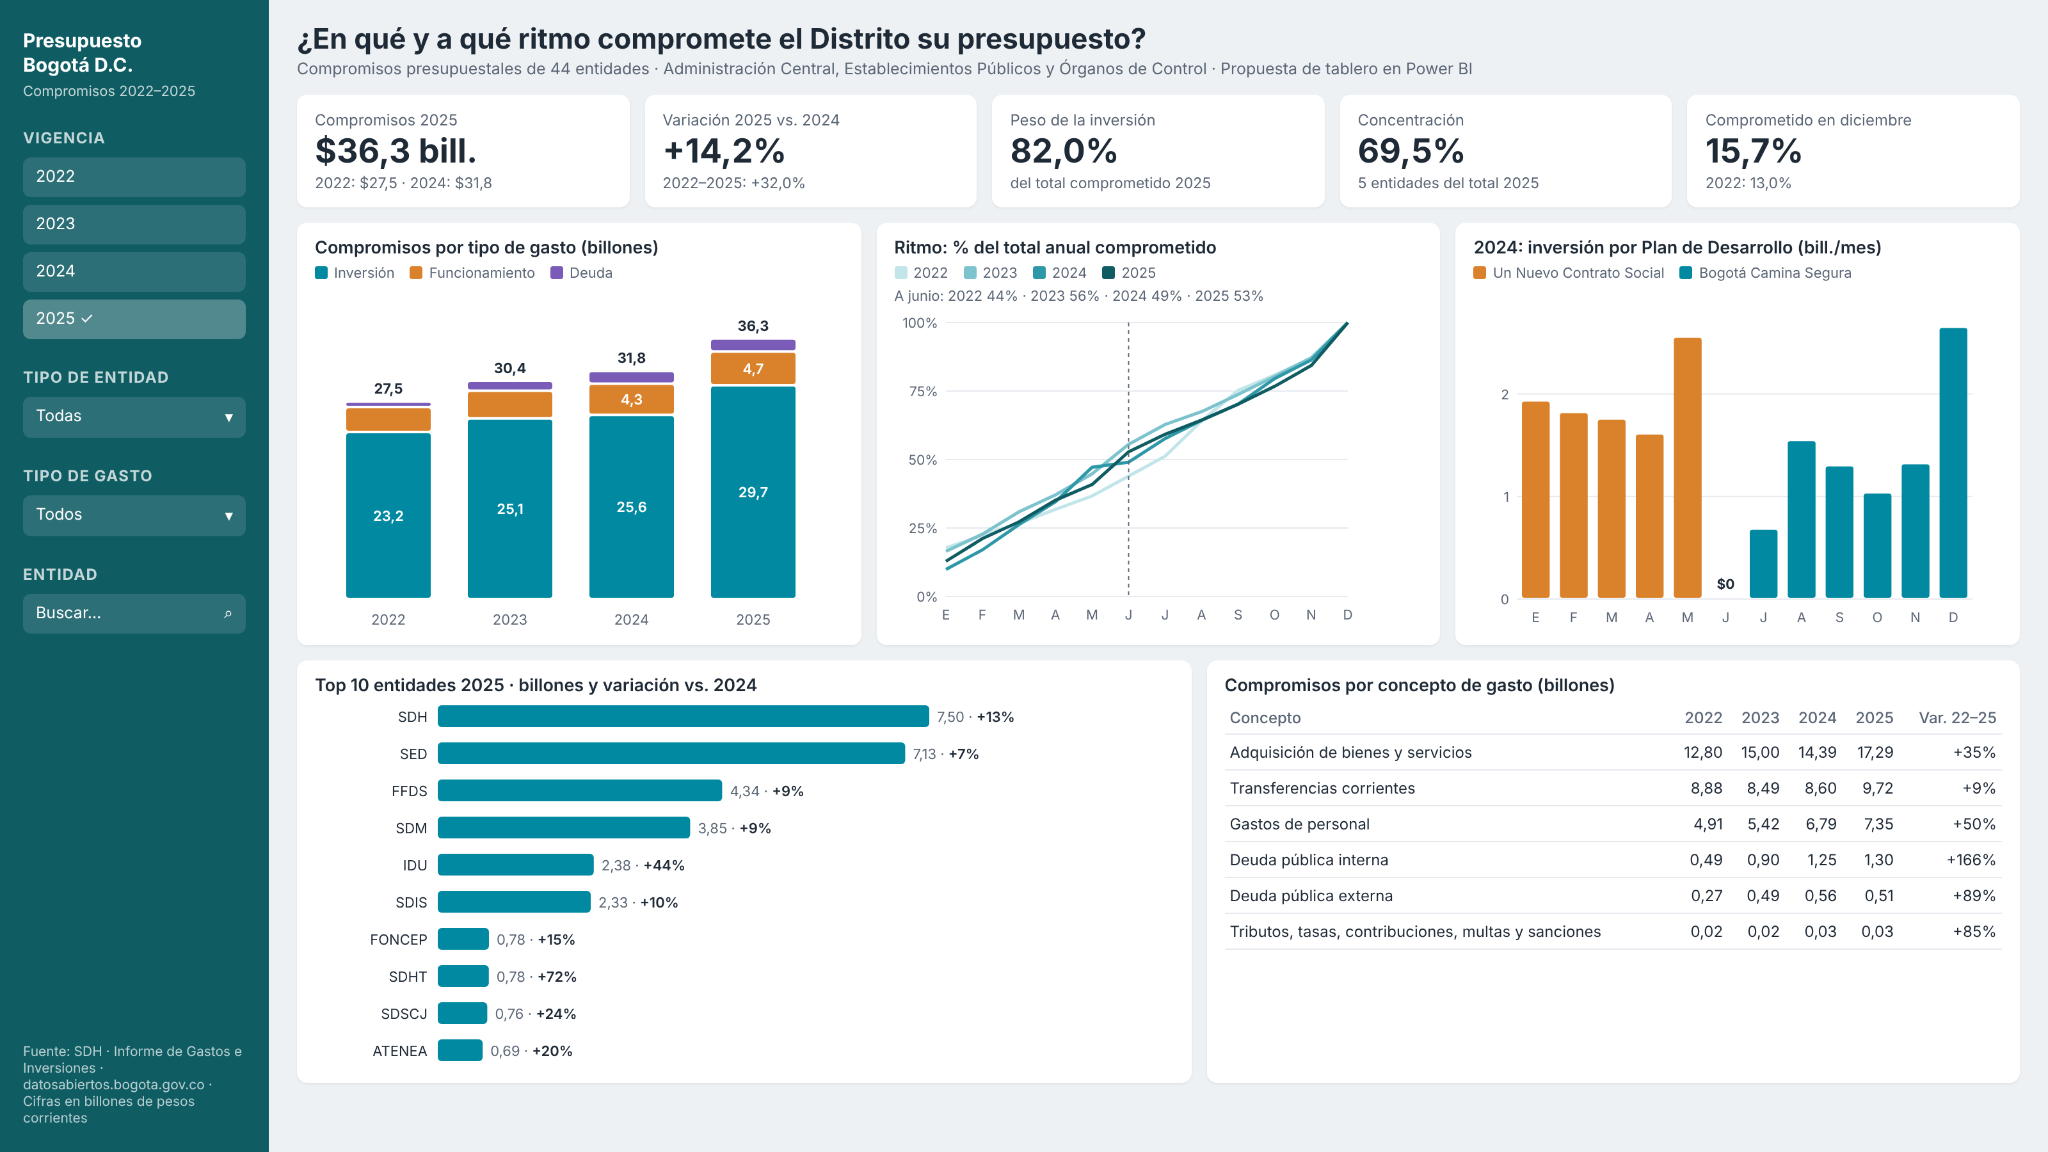

The dashboard page shown, as its layout file describes it:
{"tool":"powerbi","page":{"name":"Página 1","canvas":[1920,1080],"ordinal":0},"visuals":[{"type":"slicer","title":"VIGENCIA","fields":{"Values":["Calendario.vigencia"]},"box":[18.3,123.3,280.5,369.9],"z":0},{"type":"slicer","fields":{"Values":["Entidad.tipo_entidad"]},"box":[18.3,608.3,281.2,102.1],"z":1000},{"type":"slicer","fields":{"Values":["Rubro.tipo_gasto"]},"box":[18.3,515,281.2,75.2],"z":2000},{"type":"slicer","fields":{"Values":["Entidad.entidad"]},"box":[20,736.7,280.5,97.7],"z":3000},{"type":"cardVisual","fields":{"Data":["_Medidas.Compromisos (billones)"]},"box":[386.7,105,290.9,124.7],"z":4000},{"type":"cardVisual","fields":{"Data":["_Medidas.Variación anual %"]},"box":[720,105,283.3,125],"z":5000},{"type":"cardVisual","fields":{"Data":["_Medidas.% Inversión"]},"box":[1043.3,105,260,125],"z":6000},{"type":"cardVisual","fields":{"Data":["_Medidas.Concentración top 5"]},"box":[1360,106.7,238.3,125],"z":7000},{"type":"cardVisual","fields":{"Data":["_Medidas.% Comprometido en diciembre"]},"box":[1650,105,236.7,125],"z":8000},{"type":"columnChart","title":"Compromisos por tipo gasto (billones)","fields":{"Category":["Calendario.vigencia"],"Series":["Rubro.tipo_gasto"],"Y":["_Medidas.Compromisos (billones)"]},"box":[386.7,238.3,431.7,381.7],"z":9000},{"type":"barChart","fields":{"Category":["Entidad.sigla"],"Y":["_Medidas.Compromisos (billones)"]},"box":[386,642,669.6,399.1],"z":10000},{"type":"lineChart","title":"Ritmo: % del total anual comprometido","fields":{"Category":["Calendario.mes"],"Series":["Calendario.vigencia"],"Y":["_Medidas.% Avance del año"]},"box":[840,238.3,520.2,382.1],"z":11000},{"type":"pivotTable","title":"Compromisos por concepto de Gasto (Billones)","fields":{"Columns":["Calendario.vigencia"],"Rows":["Rubro.concepto_gasto"],"Values":["_Medidas.Compromisos (billones)"]},"box":[1121.7,646.7,695,393.3],"z":12000},{"type":"columnChart","title":"2024: Inversión por Plan de Desarrollo (Bill/mes)","fields":{"Category":["Calendario.mes"],"Series":["Programa.plan_desarrollo"],"Y":["_Medidas.Compromisos (billones)"]},"box":[1378,238,520.2,384],"z":13000},{"type":"textbox","box":[395,1.7,1175,76.7],"z":14000}]}

Visuals, with their boxes in screenshot pixels (x1, y1, x2, y2), scaled from the page's 1920x1080 canvas onto the 2048x1152 screenshot:
"VIGENCIA" slicer: locate(20, 132, 319, 526)
slicer - Entidad.tipo_entidad: locate(20, 649, 319, 758)
slicer - Rubro.tipo_gasto: locate(20, 549, 319, 630)
slicer - Entidad.entidad: locate(21, 786, 321, 890)
cardVisual - _Medidas.Compromisos (billones): locate(412, 112, 723, 245)
cardVisual - _Medidas.Variación anual %: locate(768, 112, 1070, 245)
cardVisual - _Medidas.% Inversión: locate(1113, 112, 1390, 245)
cardVisual - _Medidas.Concentración top 5: locate(1451, 114, 1705, 247)
cardVisual - _Medidas.% Comprometido en diciembre: locate(1760, 112, 2012, 245)
"Compromisos por tipo gasto (billones)" columnChart: locate(412, 254, 873, 661)
barChart - Entidad.sigla x _Medidas.Compromisos (billones): locate(412, 685, 1126, 1111)
"Ritmo: % del total anual comprometido" lineChart: locate(896, 254, 1451, 662)
"Compromisos por concepto de Gasto (Billones)" pivotTable: locate(1196, 690, 1938, 1109)
"2024: Inversión por Plan de Desarrollo (Bill/mes)" columnChart: locate(1470, 254, 2025, 663)
textbox: locate(421, 2, 1675, 84)
